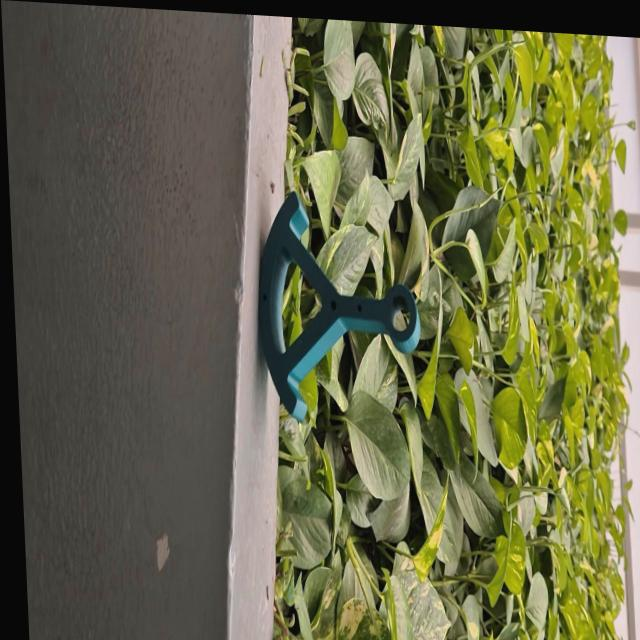haptic: (250, 183, 426, 434)
